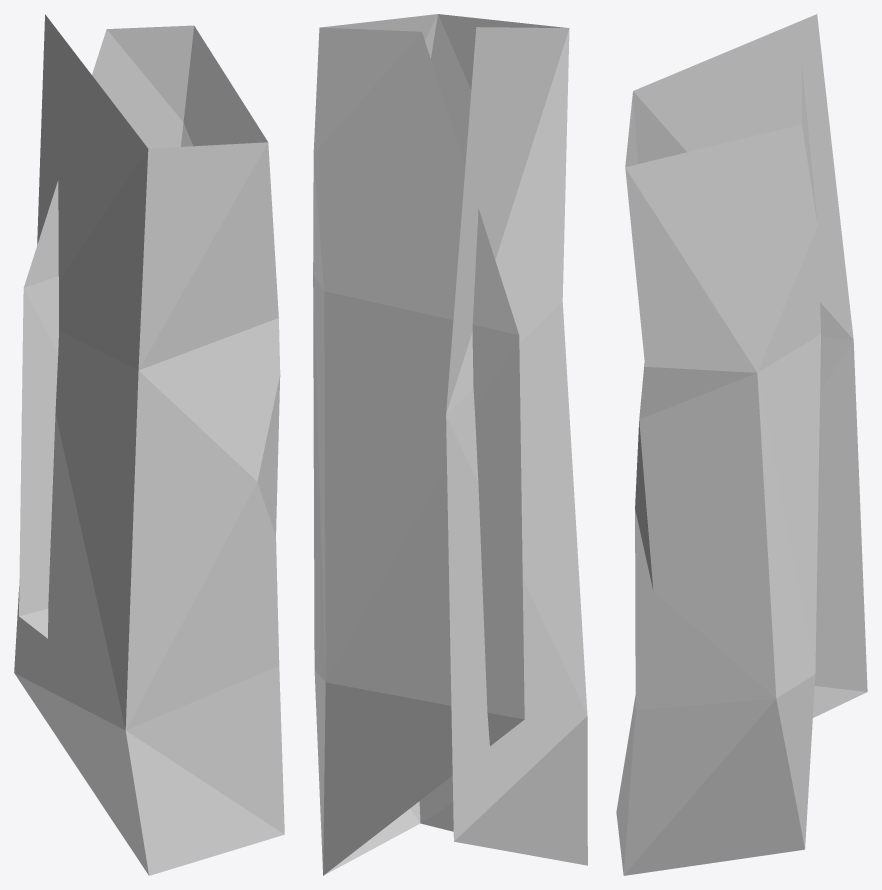
Rendered from SM_Env_Ivy_Pillar_Square_01.glb.
3 views of the same model, side by side, from view 1: azimuth 30°, elevation 25°; view 2: azimuth 150°, elevation 25°; view 3: azimuth 270°, elevation 25° (orthographic). The views are drawn at different scales.
Visible parts, largest first — view 1: SM_Env_Ivy_Pillar_Square_01; view 2: SM_Env_Ivy_Pillar_Square_01; view 3: SM_Env_Ivy_Pillar_Square_01.
Part boxes in pixels (x1,y1,x2,y2): SM_Env_Ivy_Pillar_Square_01: [14, 14, 284, 875]; SM_Env_Ivy_Pillar_Square_01: [313, 14, 587, 875]; SM_Env_Ivy_Pillar_Square_01: [616, 14, 867, 875].
Size of the model in its own units: 0.5725 by 2.13 by 0.6099.
1 material, 1 textured.
